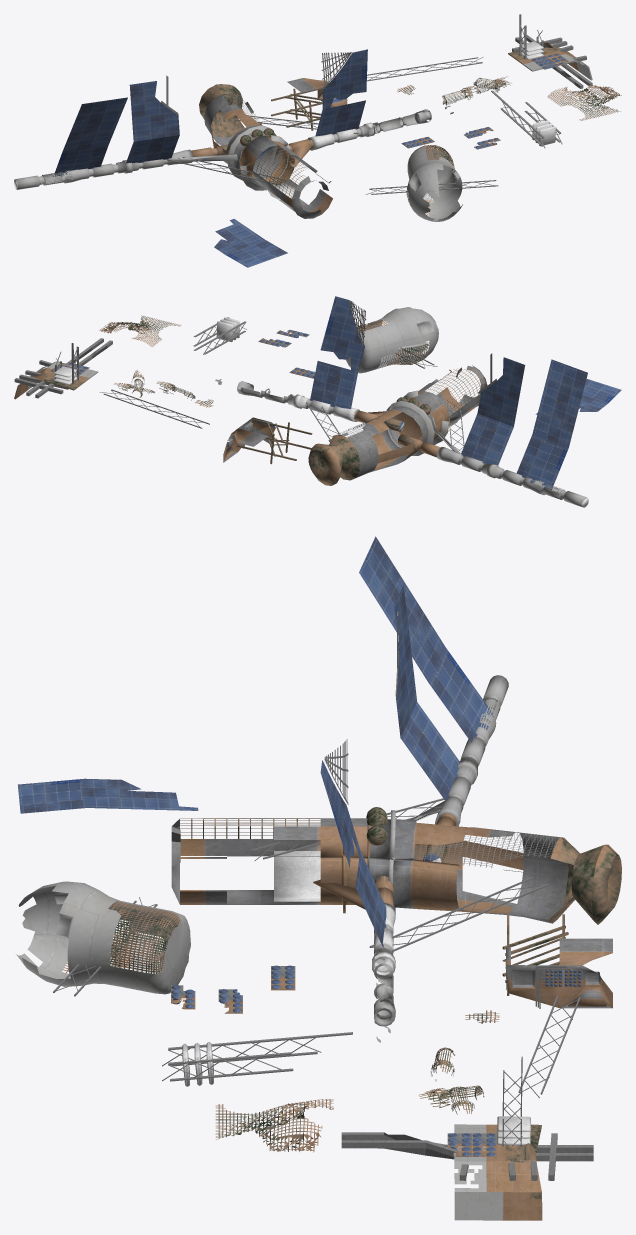
File: cgtrader_optimized_Space debris.fbx
3 views of the same model, one above another, from view 1: azimuth 30°, elevation 25°; view 2: azimuth 150°, elevation 25°; view 3: azimuth 270°, elevation 25° (orthographic). The views are drawn at different scales.
Visible parts, largest first — view 1: Sphere.001, Cylinder, Cube.001, Cylinder.004, Plane, Cube.005, Cube.003, Cube.007, Cylinder.003; view 2: Sphere.001, Cylinder, Cube.001, Cube.005, Plane, Cylinder.004, Cube.003, Cube.007, Cylinder.003; view 3: Sphere.001, Cylinder, Cube.001, Cube.005, Cylinder.004, Plane, Cube.003, Cylinder.003.
Boxes of the visible parts, x1=… form: Sphere.001: x1=14, y1=49, x2=453, y2=218; Cylinder: x1=365, y1=145, x2=498, y2=221; Cube.001: x1=508, y1=14, x2=592, y2=88; Cylinder.004: x1=214, y1=219, x2=287, y2=267; Plane: x1=547, y1=85, x2=621, y2=120; Cube.005: x1=271, y1=78, x2=347, y2=130; Cube.003: x1=491, y1=90, x2=562, y2=148; Cube.007: x1=367, y1=57, x2=483, y2=81; Cylinder.003: x1=473, y1=76, x2=511, y2=93; Sphere.001: x1=215, y1=296, x2=588, y2=507; Cylinder: x1=346, y1=307, x2=438, y2=373; Cube.001: x1=14, y1=338, x2=112, y2=399; Cube.005: x1=223, y1=417, x2=312, y2=464; Plane: x1=99, y1=315, x2=181, y2=346; Cylinder.004: x1=535, y1=379, x2=621, y2=414; Cube.003: x1=193, y1=317, x2=246, y2=354; Cube.007: x1=99, y1=389, x2=209, y2=428; Cylinder.003: x1=114, y1=370, x2=154, y2=397; Sphere.001: x1=171, y1=536, x2=621, y2=1042; Cylinder: x1=16, y1=881, x2=190, y2=996; Cube.001: x1=341, y1=1056, x2=593, y2=1220; Cube.005: x1=502, y1=914, x2=612, y2=1008; Cylinder.004: x1=18, y1=778, x2=198, y2=813; Plane: x1=215, y1=1099, x2=333, y2=1152; Cube.003: x1=162, y1=1032, x2=352, y2=1086; Cylinder.003: x1=418, y1=1085, x2=484, y2=1114.
Size of the model in its own units: 26.71 by 5.64 by 13.89.
